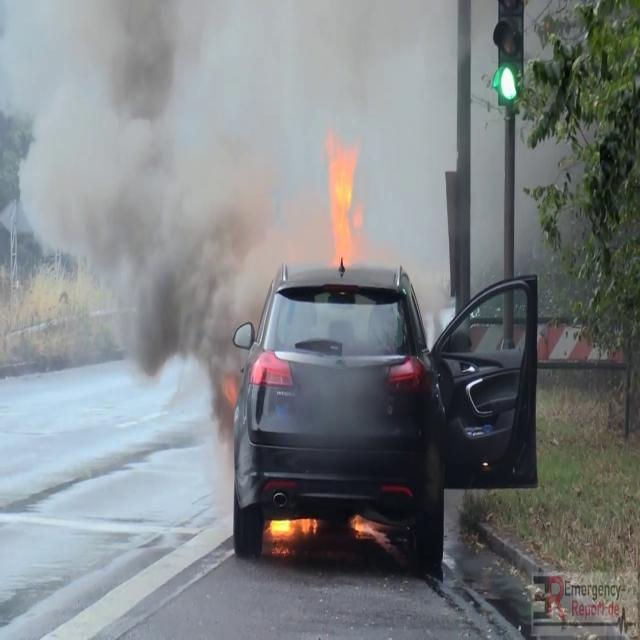Fire: (324, 128, 364, 268), (263, 507, 319, 553)
Smoke: (0, 0, 290, 380)
